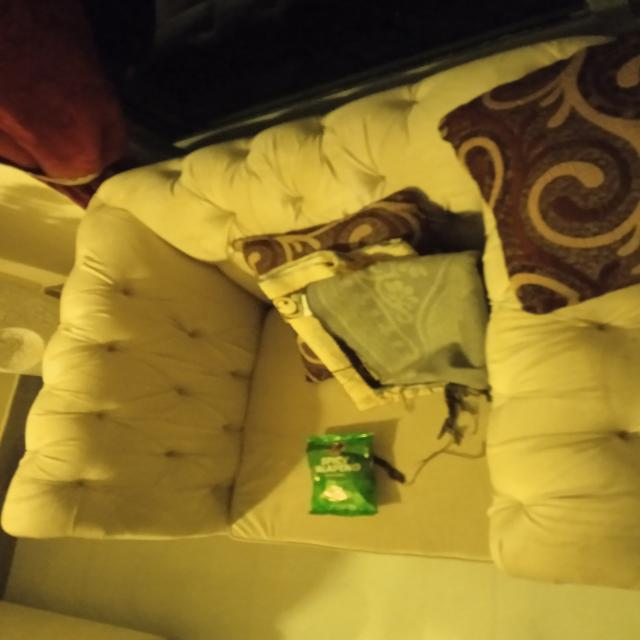Plastic: (302, 423, 388, 519)
